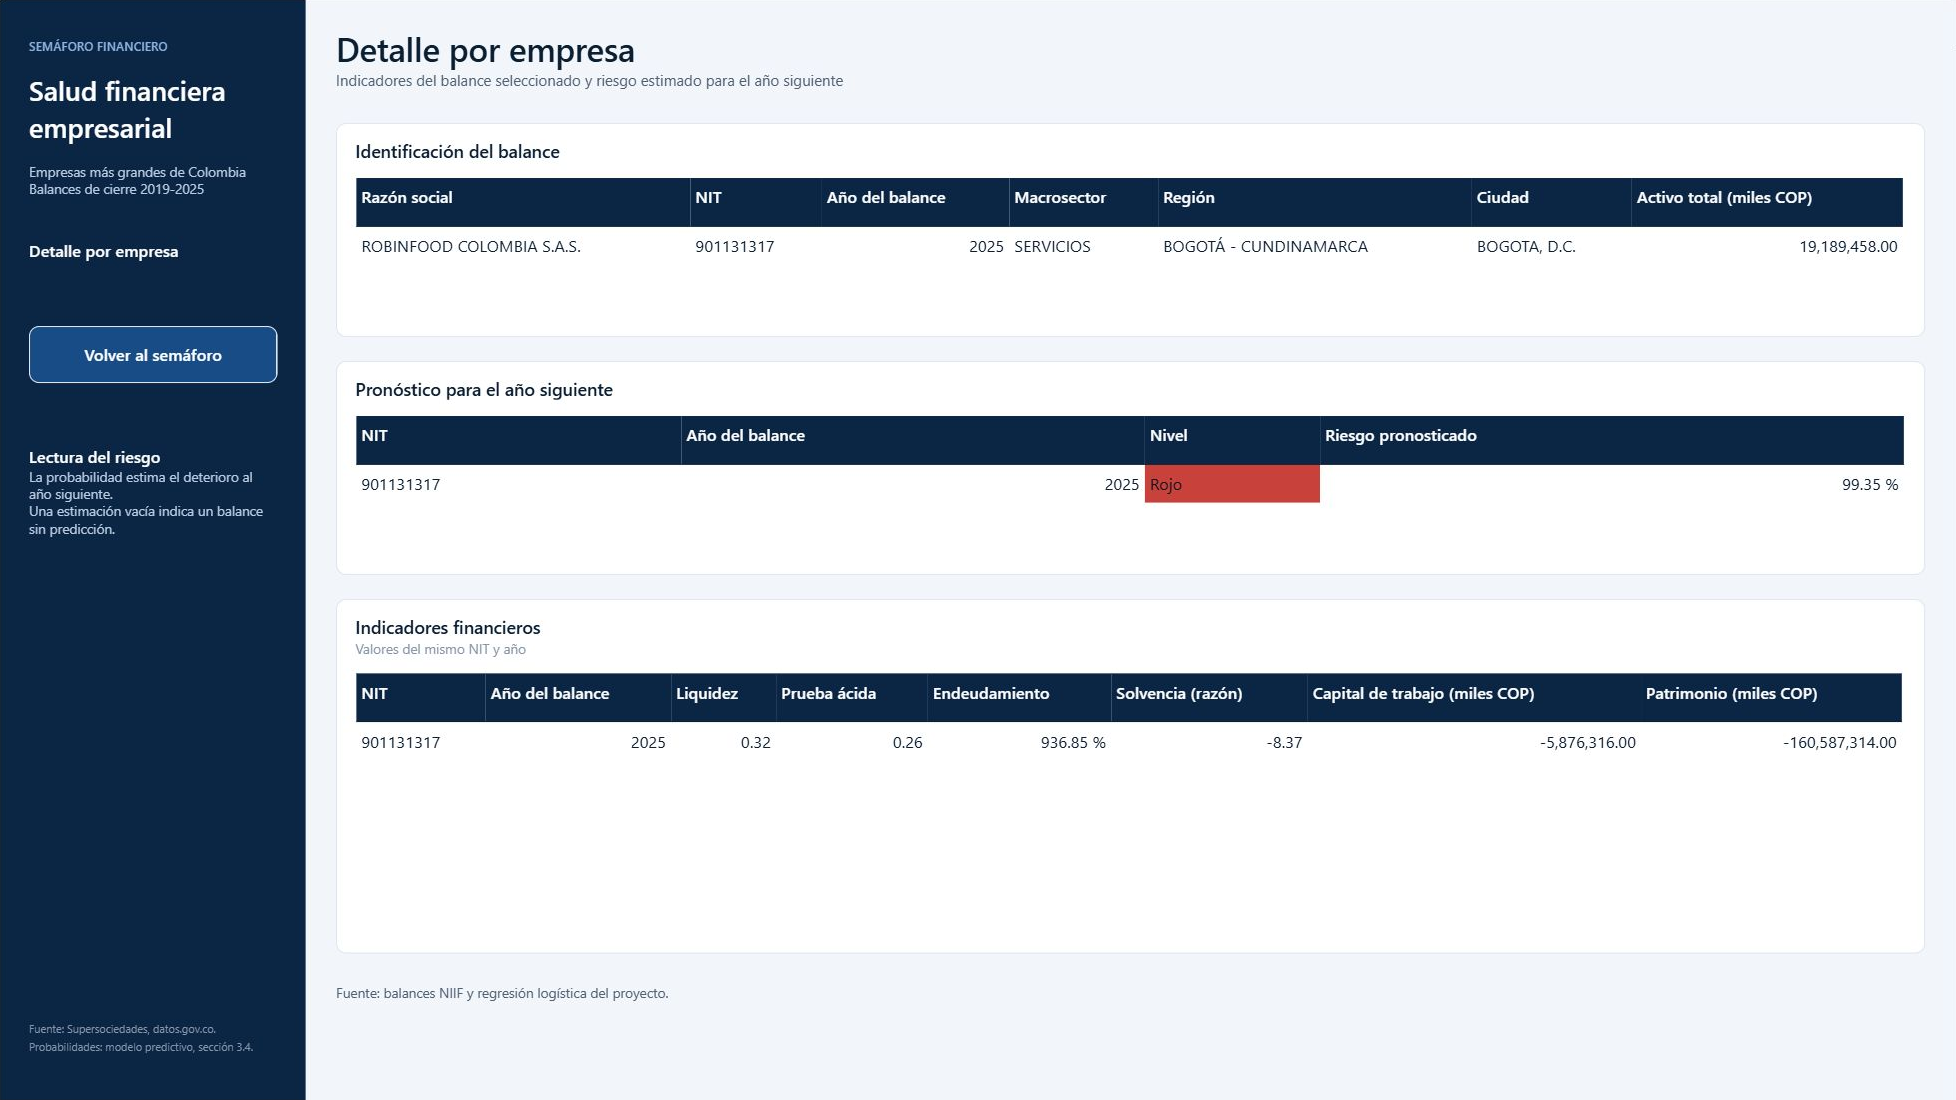

Layout of this report page (visuals, bound fields, positions):
{"tool":"powerbi","page":{"name":"Detalle por empresa","canvas":[1920,1080],"ordinal":3},"visuals":[{"type":"textbox","box":[0,0,300,1080],"z":1000},{"type":"textbox","box":[28,36,244,180],"z":2000},{"type":"textbox","box":[28,236,244,40],"z":3000},{"type":"textbox","box":[28,438,244,220],"z":4000},{"type":"textbox","box":[28,1000,244,56],"z":5000},{"type":"actionButton","box":[28,320,244,56],"z":6500},{"type":"textbox","box":[330,26,1560,84],"z":9000},{"type":"tableEx","title":"Identificación del balance","fields":{"Values":["dim_empresa.razon_social","dim_empresa.nit","dim_tiempo.anio","dim_sector.macrosector","dim_empresa.region","dim_empresa.ciudad","Avg(fact_indicadores.activo_total)"]},"box":[330,121,1560,210],"z":10000},{"type":"tableEx","title":"Pronóstico para el año siguiente","fields":{"Values":["dim_empresa.nit","dim_tiempo.anio","dim_semaforo.nivel","Medidas.Probabilidad media"]},"box":[330,354,1560,210],"z":11000},{"type":"tableEx","title":"Indicadores financieros","fields":{"Values":["dim_empresa.nit","dim_tiempo.anio","Medidas.Liquidez mediana","Avg(fact_indicadores.prueba_acida)","Medidas.Endeudamiento mediano","Avg(fact_indicadores.solvencia)","Avg(fact_indicadores.capital_trabajo)","Avg(fact_indicadores.patrimonio_total)"]},"box":[330,588,1560,348],"z":12000},{"type":"textbox","box":[330,966,1560,38],"z":13000}]}

Visuals, with their boxes in screenshot pixels (x1, y1, x2, y2), scaled from the page's 1920x1080 canvas onto the 1956x1100 screenshot:
textbox: l=0, t=0, r=306, b=1099
textbox: l=29, t=37, r=277, b=220
textbox: l=29, t=240, r=277, b=281
textbox: l=29, t=446, r=277, b=670
textbox: l=29, t=1019, r=277, b=1076
actionButton: l=29, t=326, r=277, b=383
textbox: l=336, t=26, r=1925, b=112
"Identificación del balance" tableEx: l=336, t=123, r=1925, b=337
"Pronóstico para el año siguiente" tableEx: l=336, t=361, r=1925, b=574
"Indicadores financieros" tableEx: l=336, t=599, r=1925, b=953
textbox: l=336, t=984, r=1925, b=1023
